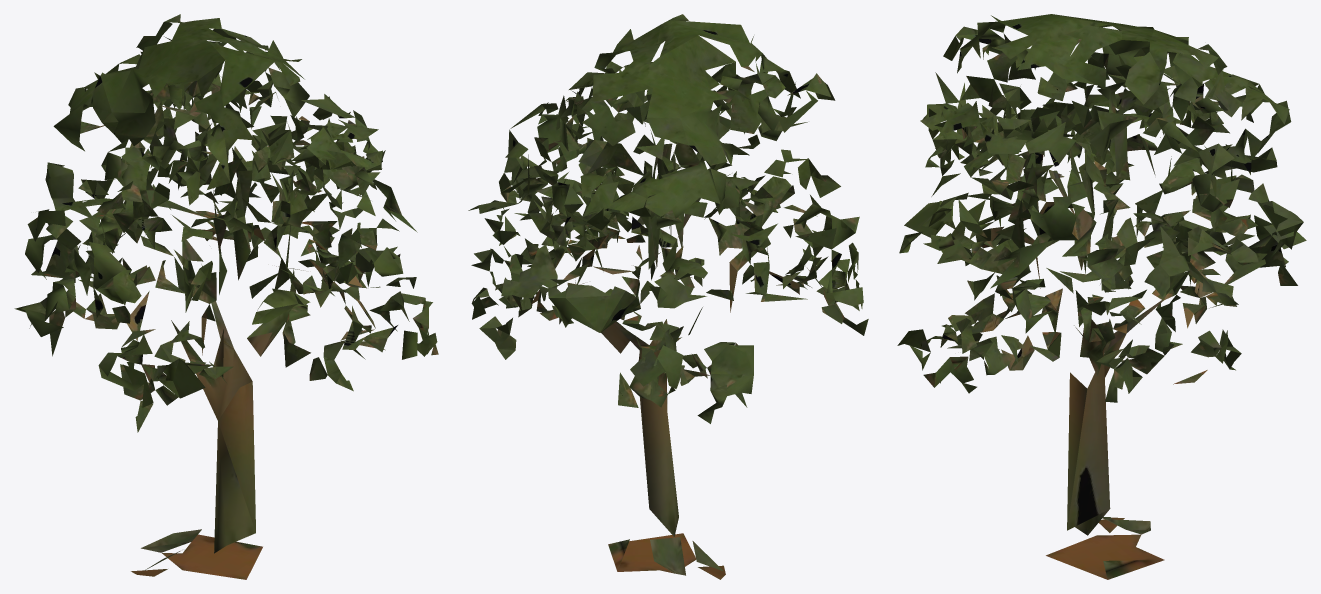
The model's file is getkong-tree2.glb.
The picture shows the model from 3 angles, left to right: view 1: azimuth 30°, elevation 25°; view 2: azimuth 150°, elevation 25°; view 3: azimuth 270°, elevation 25°; orthographic projection. The views are drawn at different scales.
Visible parts, largest first — view 1: output_unwrapped; view 2: output_unwrapped; view 3: output_unwrapped.
Boxes of the visible parts, <box> form: output_unwrapped: <box>14,14,438,579</box>; output_unwrapped: <box>468,14,868,579</box>; output_unwrapped: <box>897,14,1306,579</box>.
Size of the model in its own units: 1.31 by 1.98 by 1.38.
Materials: 1 (1 with a texture image).
